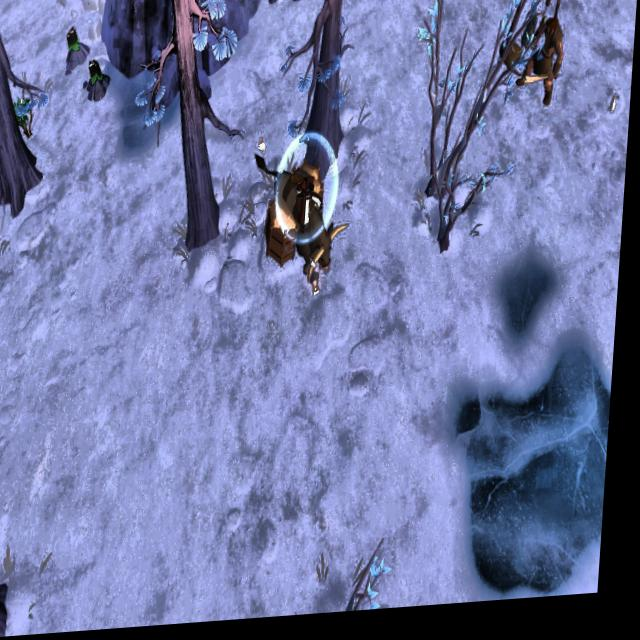enemy_factionKeeper: (519, 21, 570, 117)
fiber_t3: (13, 92, 38, 138)
ore_t3: (89, 56, 106, 94), (66, 26, 81, 58)
